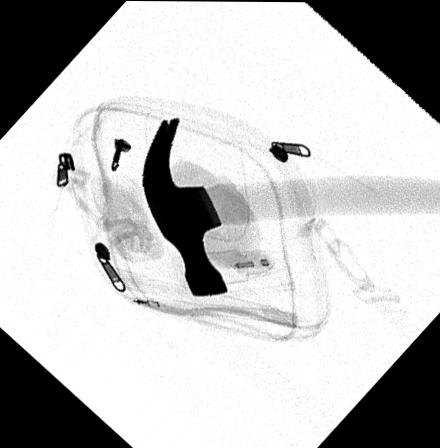Hammer: (141, 116, 440, 298)
